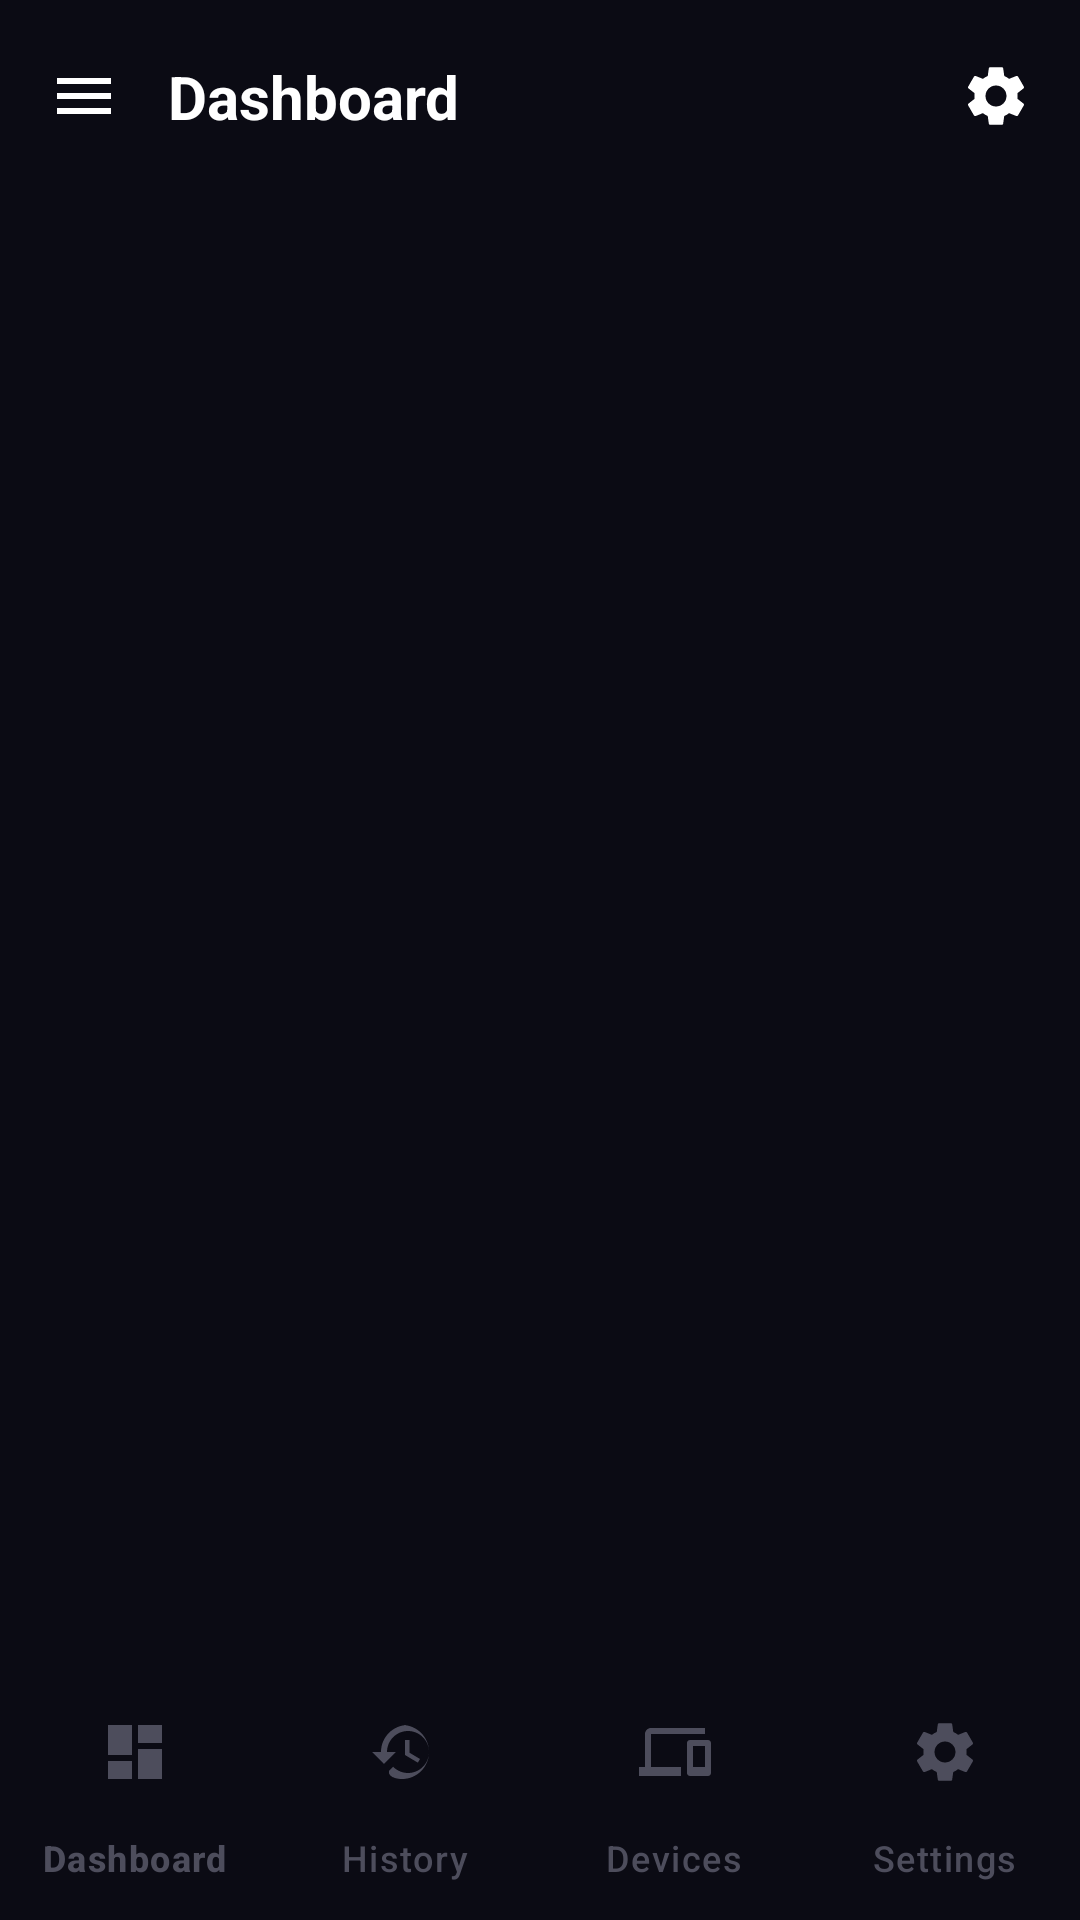

Screen size 1080x1920. Icon name, then its center in pixels as [x,y]:
menu: [84,96]
settings: [996,96]
